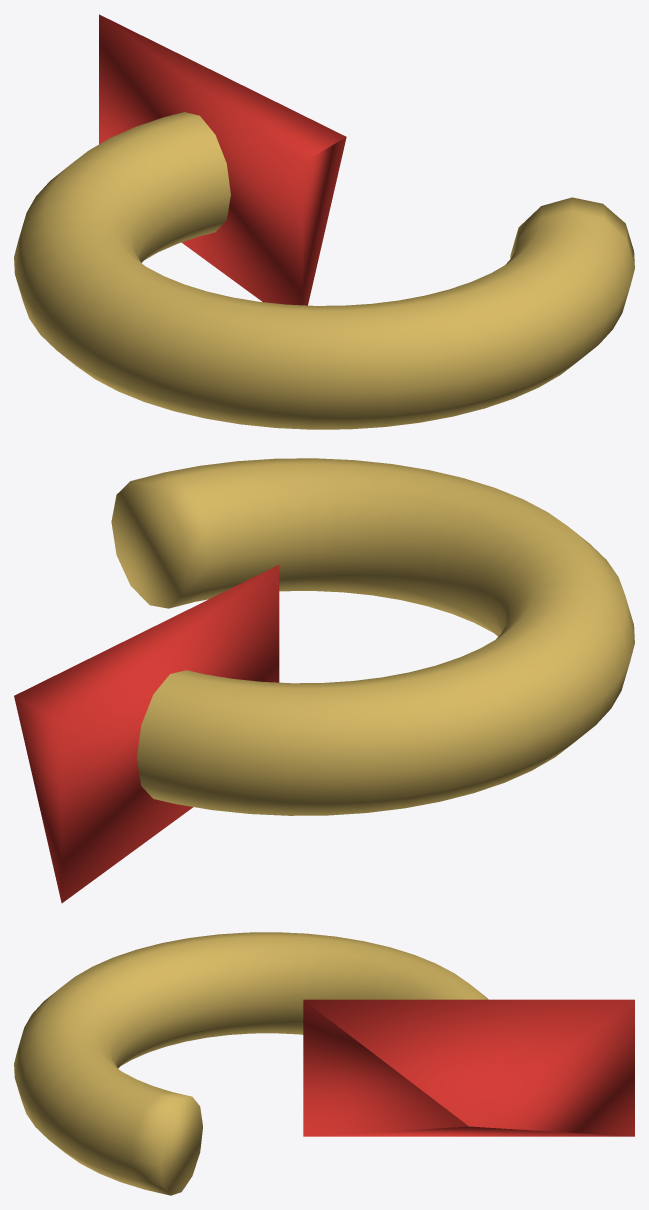
The model's file is changeCharacter.fbx.
The picture shows the model from 3 angles, top to bottom: view 1: azimuth 30°, elevation 25°; view 2: azimuth 150°, elevation 25°; view 3: azimuth 270°, elevation 25°; orthographic projection. The views are drawn at different scales.
Visible parts, largest first — view 1: Torus, Cube; view 2: Torus, Cube; view 3: Torus, Cube.
Part boxes in pixels (box(x1,y1,x2,y2)): Torus: box(14, 112, 634, 429); Cube: box(99, 14, 346, 305); Torus: box(111, 458, 634, 815); Cube: box(14, 565, 279, 903); Torus: box(14, 932, 488, 1195); Cube: box(303, 999, 634, 1136).
Size of the model in its own units: 7.78 by 2.43 by 10.
